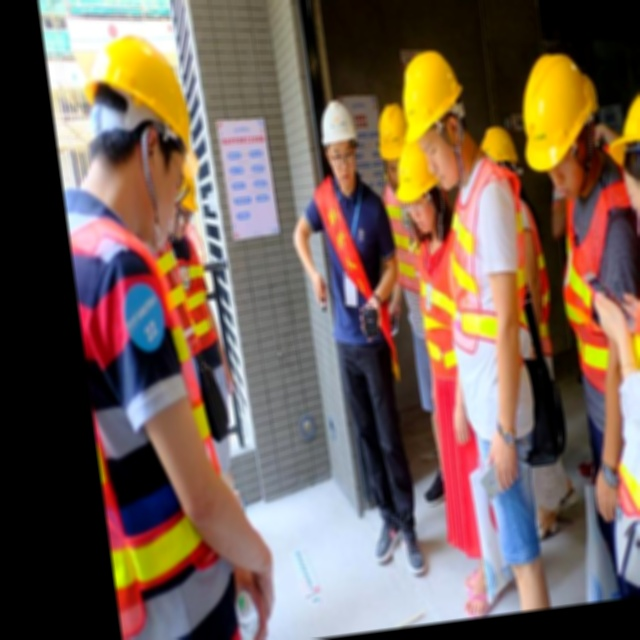Con_Chaleco: (435, 174, 536, 379), (551, 180, 640, 395)
Sin_Chaleco: (310, 171, 403, 354)
